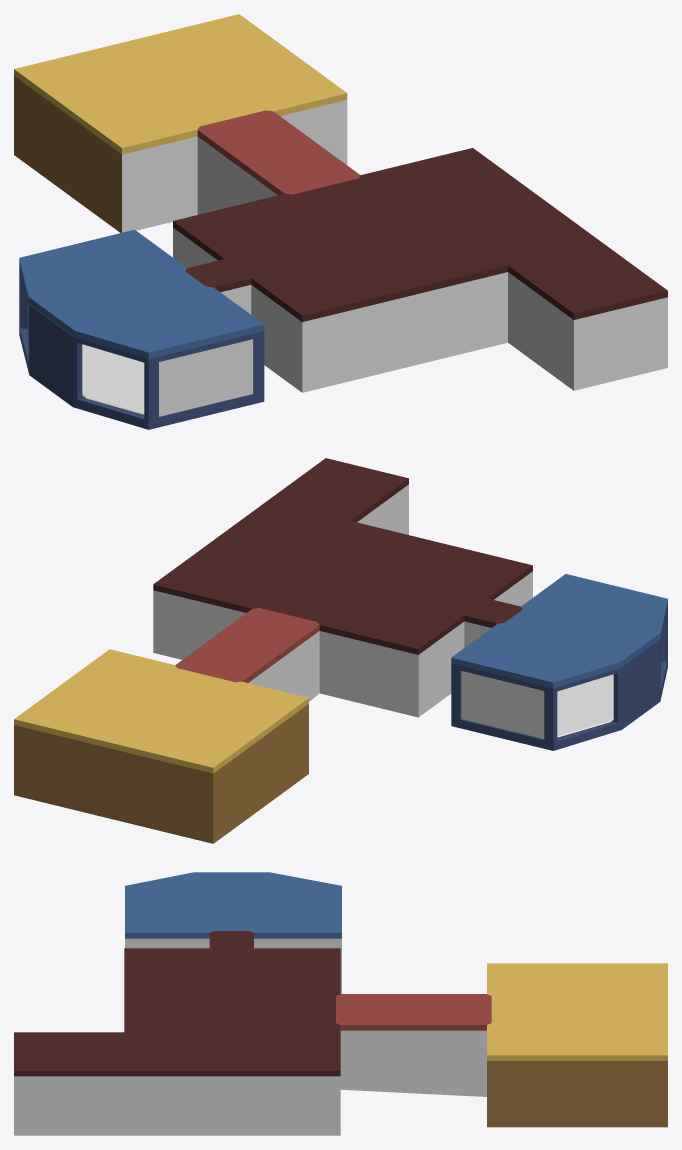
3 renders of one model, top to bottom at view 1: azimuth 30°, elevation 25°; view 2: azimuth 150°, elevation 25°; view 3: azimuth 270°, elevation 25°, orthographic. The views are drawn at different scales.
Parts seen in each view (by area): view 1: celling, wall, galss, Redland; view 2: celling, wall, galss.001, Redland; view 3: celling, wall.
Part boxes in pixels (x1=…): celling: x1=14, y1=14, x2=667, y2=358; wall: x1=14, y1=76, x2=667, y2=429; galss: x1=159, y1=339, x2=253, y2=416; Redland: x1=82, y1=344, x2=144, y2=414; celling: x1=14, y1=458, x2=667, y2=773; wall: x1=14, y1=484, x2=667, y2=843; galss.001: x1=461, y1=671, x2=544, y2=738; Redland: x1=557, y1=674, x2=613, y2=737; celling: x1=14, y1=872, x2=667, y2=1076; wall: x1=14, y1=938, x2=667, y2=1135.
Size of the model in its own units: 1295 by 219 by 1801.
